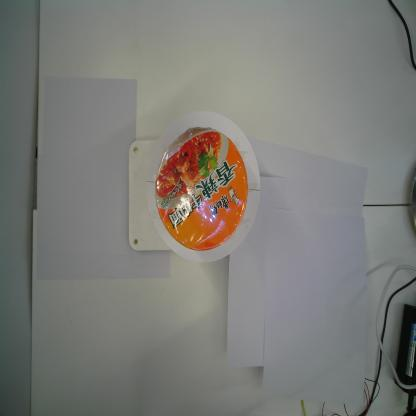Instant Noodles: (154, 123, 250, 257)
